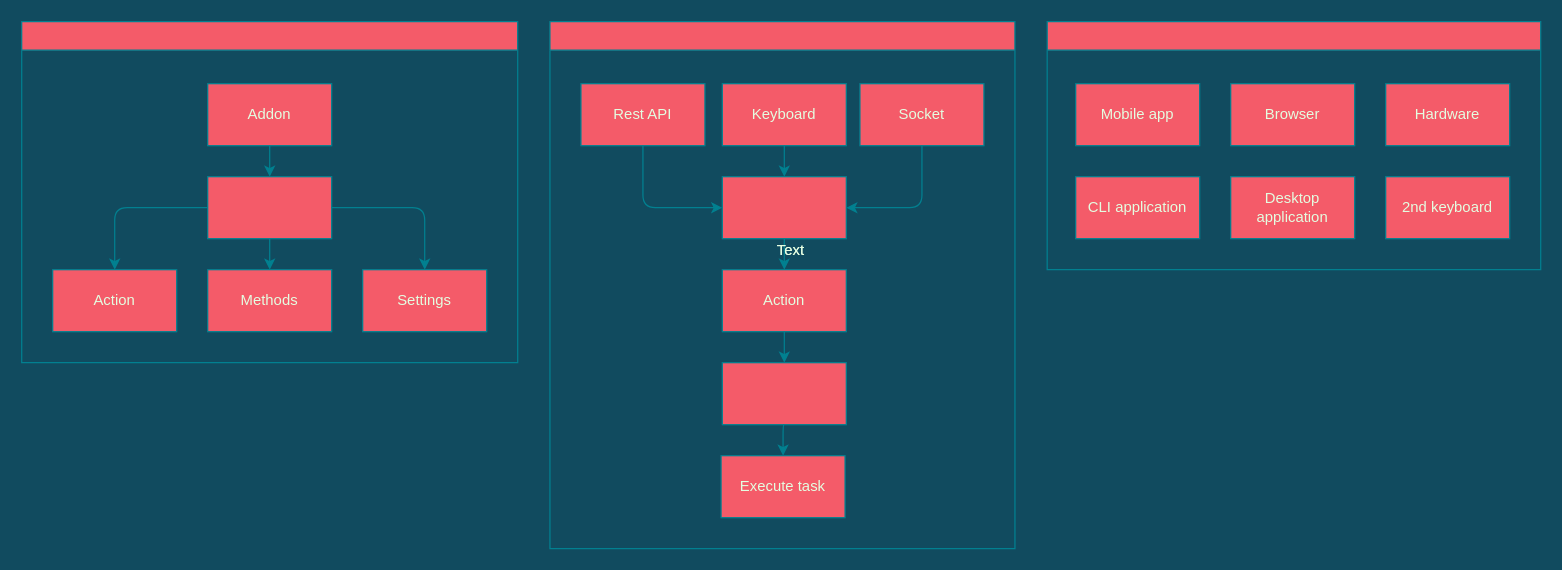
The diagram is 1562 pixels wide and 570 high, and some of its shapes have lost their labels. Here are the shapes that lost their labels. From the top down, the box of each, then its label:
(1046, 20, 1541, 270): Application ideas
(20, 20, 518, 363): Addon flow
(206, 175, 332, 239): Can register
(721, 175, 846, 239): Action trigger
(549, 20, 1015, 549): Trigger flow
(721, 361, 846, 425): Method
